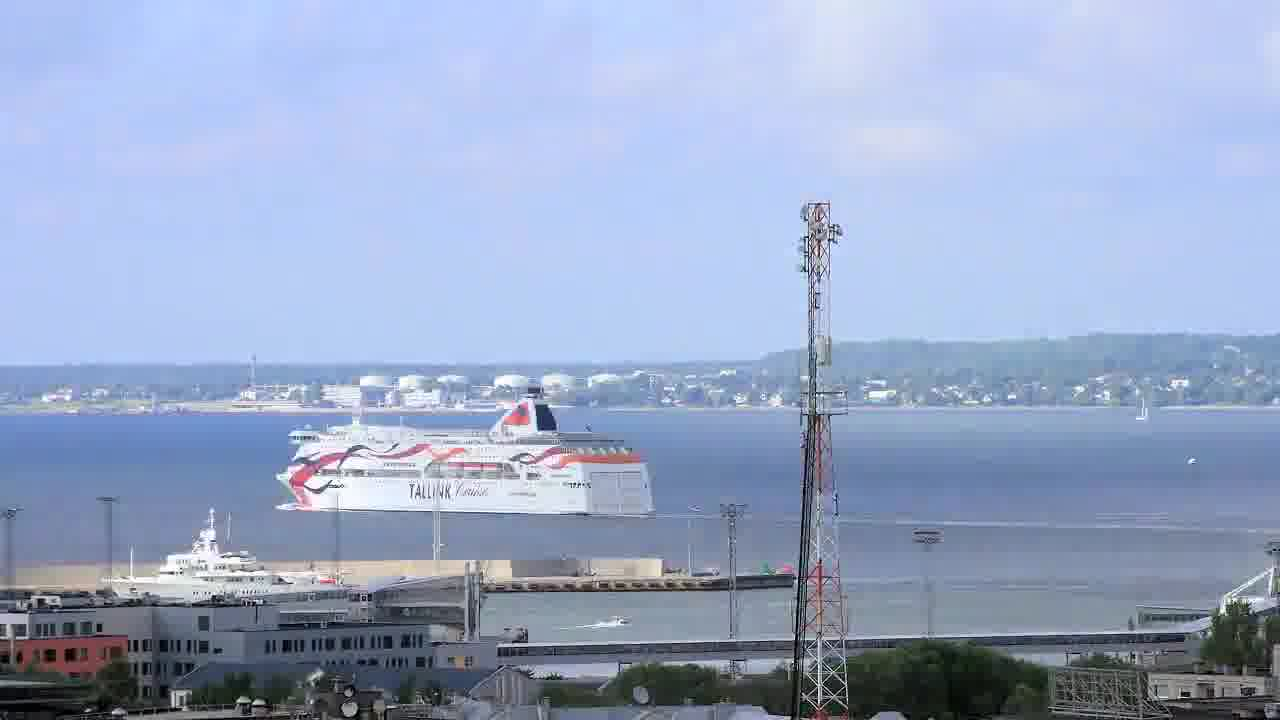type-3: (269, 360, 663, 531), (96, 508, 381, 605)
type-4: (593, 605, 642, 635)
